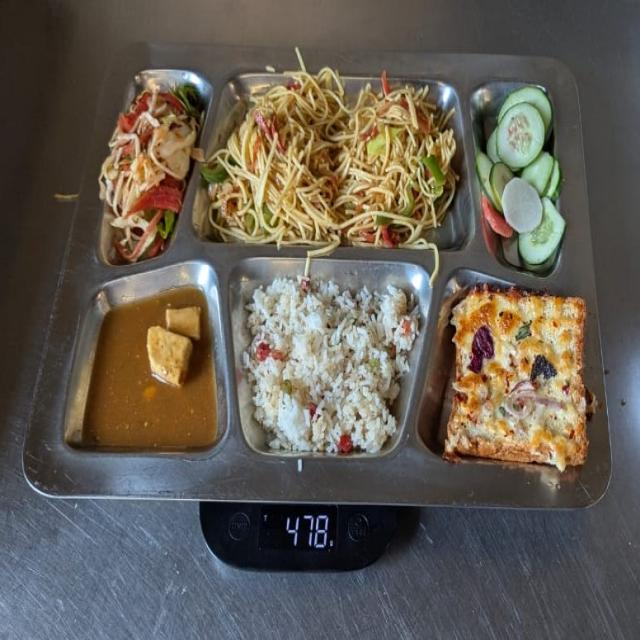Bread: (449, 289, 588, 470)
Fried Rice: (242, 276, 423, 456)
Noodles: (205, 74, 460, 252)
Paneer Curry: (88, 290, 218, 446)
Salad: (101, 84, 200, 261), (477, 84, 563, 269)
